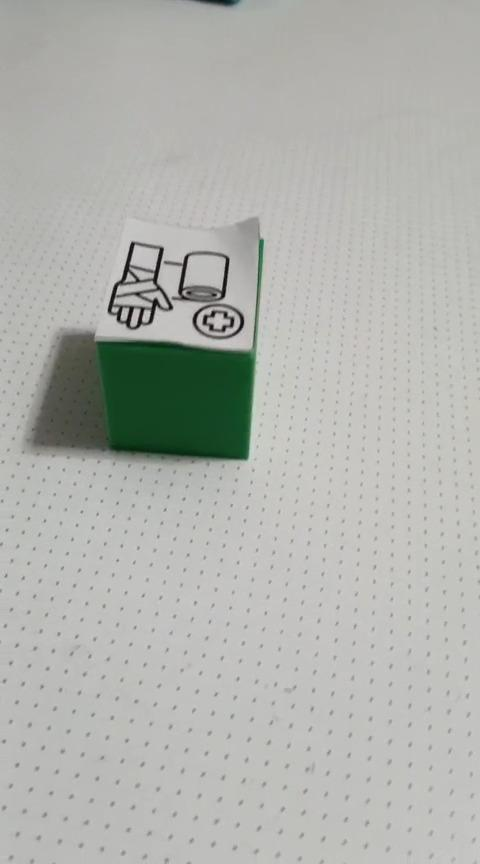Bandages: (93, 214, 262, 460)
